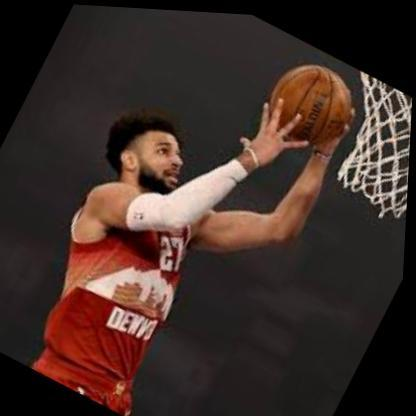basketball: (255, 44, 365, 155)
